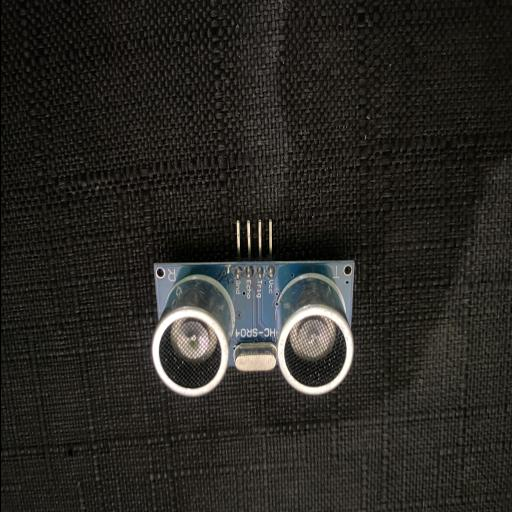Ultrasonic Sensor: (151, 218, 357, 398)
